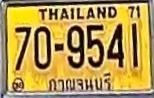0: (34, 26, 50, 68)
1: (131, 23, 137, 67)
4: (106, 23, 123, 67)
5: (86, 24, 103, 67)
7: (14, 26, 31, 70)
9: (66, 24, 84, 67)
KRI: (46, 72, 113, 93)
